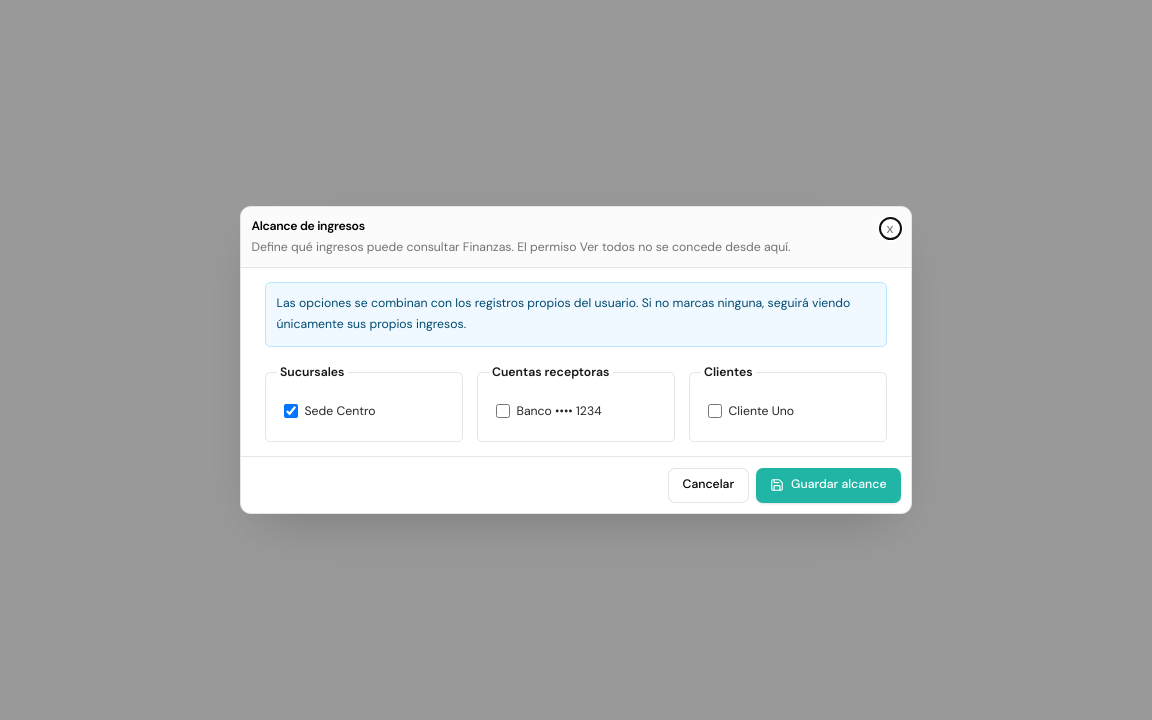
Test: UserIncomeScopesModal › keeps the modal open and shows recovery guidance when save fails
Expected: the checkbox labelled "Sede Centro" is shown, x1=284 y1=404 x2=298 y2=418
Click the button "Guardar alcance".
click(828, 485)  # box x1=756 y1=468 x2=900 y2=502
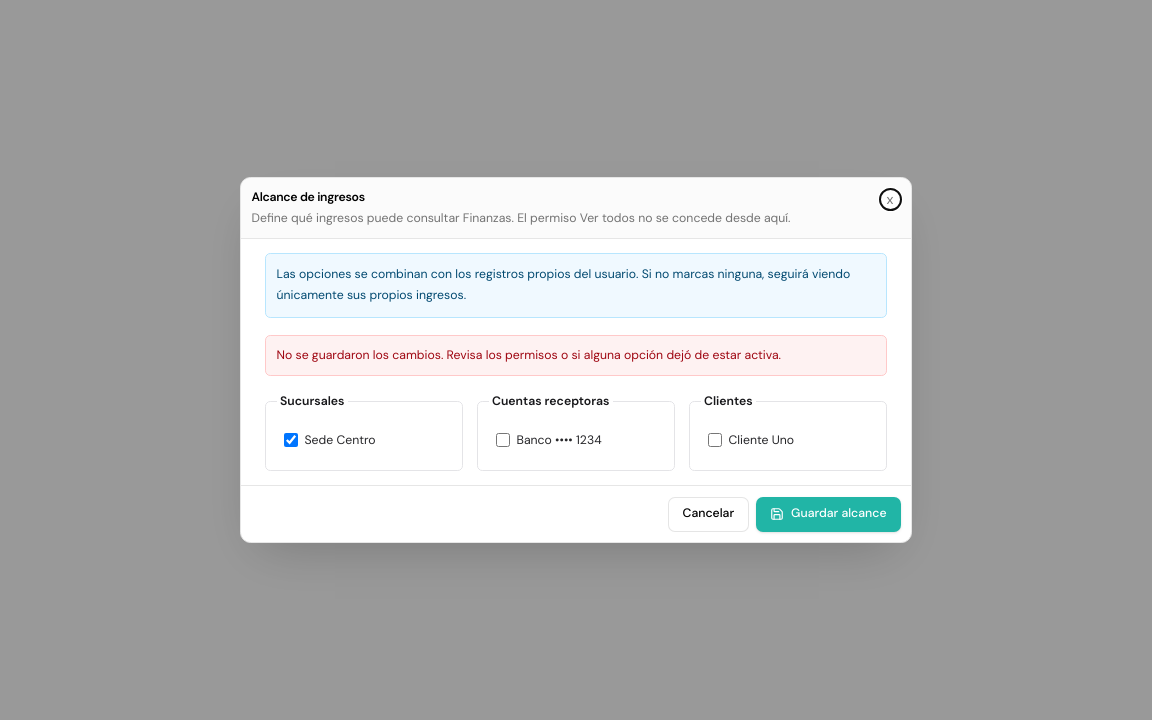
Now the message shows "No se guardaron los cambios", box x1=276 y1=346 x2=781 y2=362
